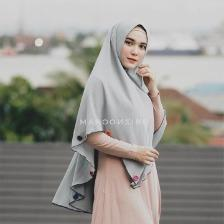HijabSyar-i: (43, 12, 168, 215)
